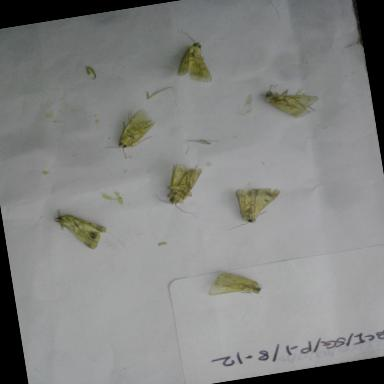abw: (142, 151, 218, 226), (213, 176, 292, 236), (92, 104, 168, 166), (250, 70, 330, 128), (45, 200, 119, 262), (195, 260, 274, 310), (162, 34, 219, 92)
